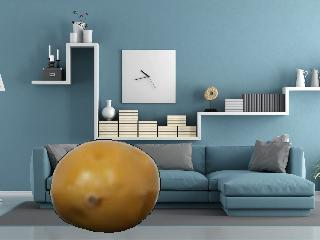potato: (44, 134, 165, 238)
